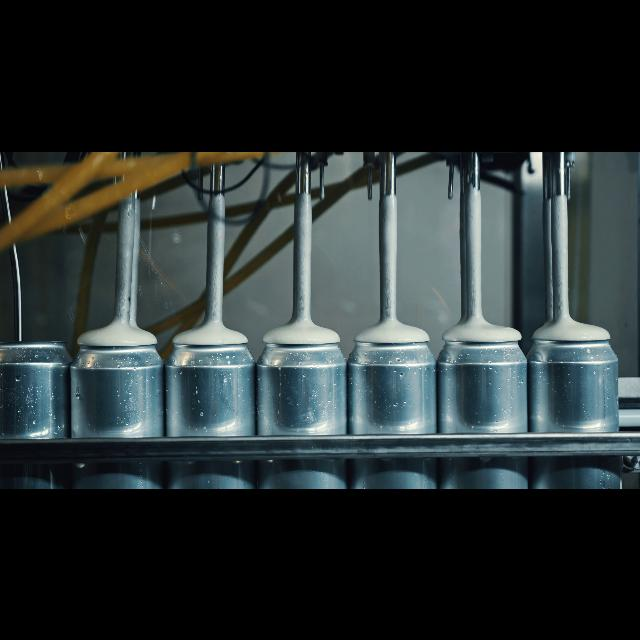empty: (1, 332, 72, 488)
full: (437, 310, 525, 488), (75, 320, 165, 488), (532, 312, 616, 488), (259, 318, 345, 488), (351, 308, 431, 488), (170, 322, 250, 488)
